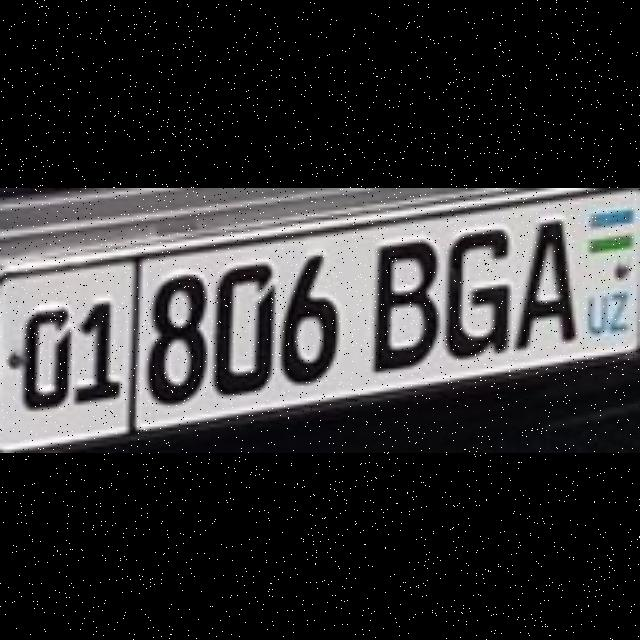0: (208, 258, 268, 390), (16, 304, 68, 406)
1: (72, 297, 116, 397)
6: (278, 252, 336, 381)
8: (142, 272, 200, 401)
A: (510, 217, 576, 346)
B: (368, 235, 434, 368)
G: (444, 226, 504, 352)
